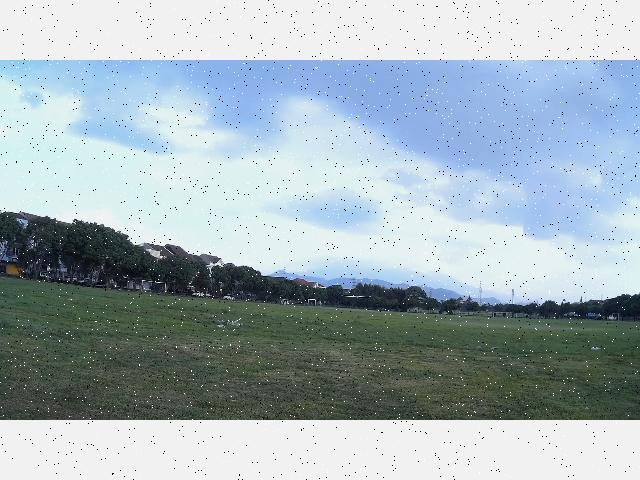Anti-Drone: (324, 286, 388, 306)
